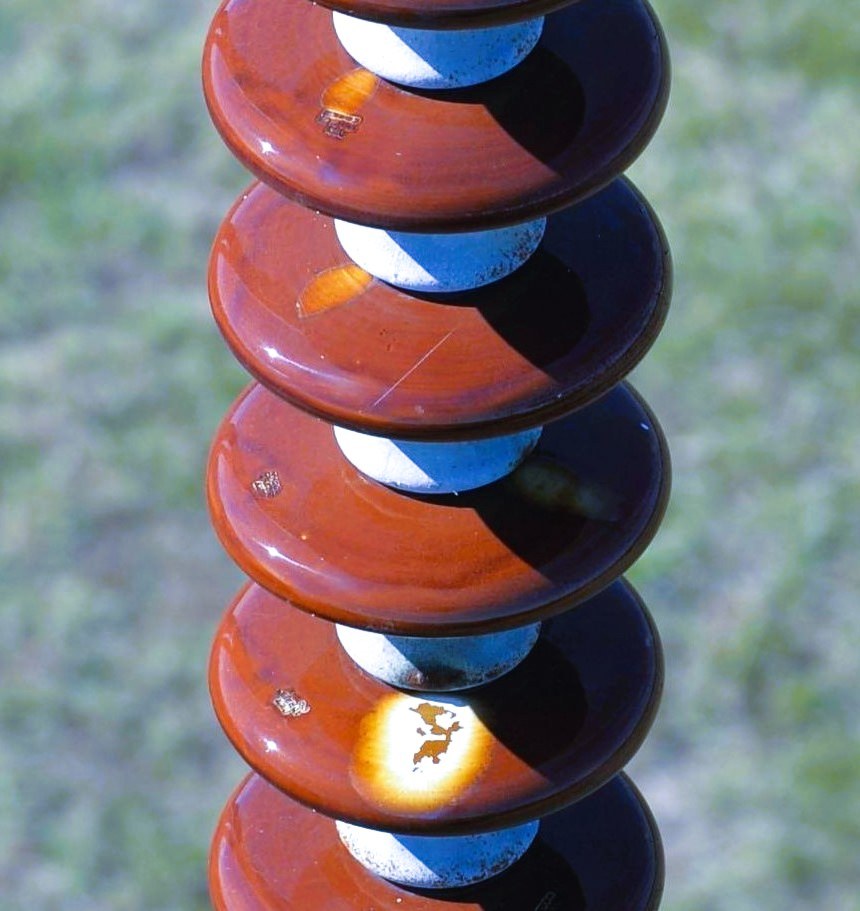Insulator flashover: (194, 574, 669, 842)
